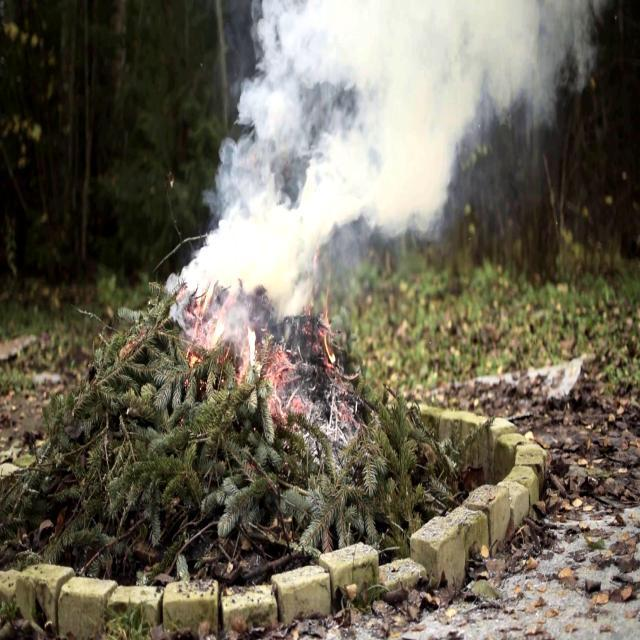Smoke: (186, 0, 580, 287)
